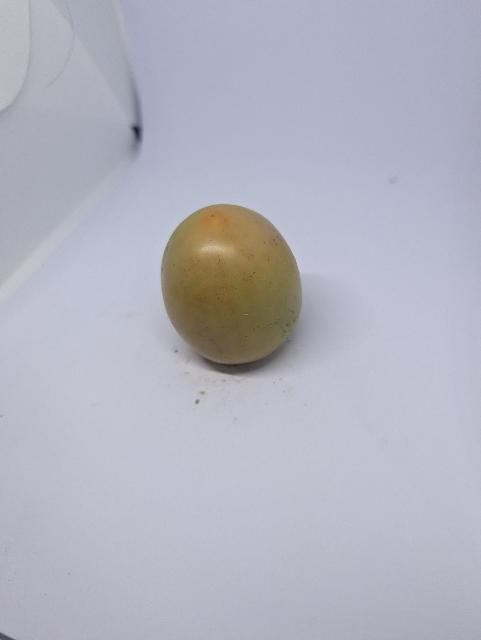breaker: (159, 202, 309, 368)
